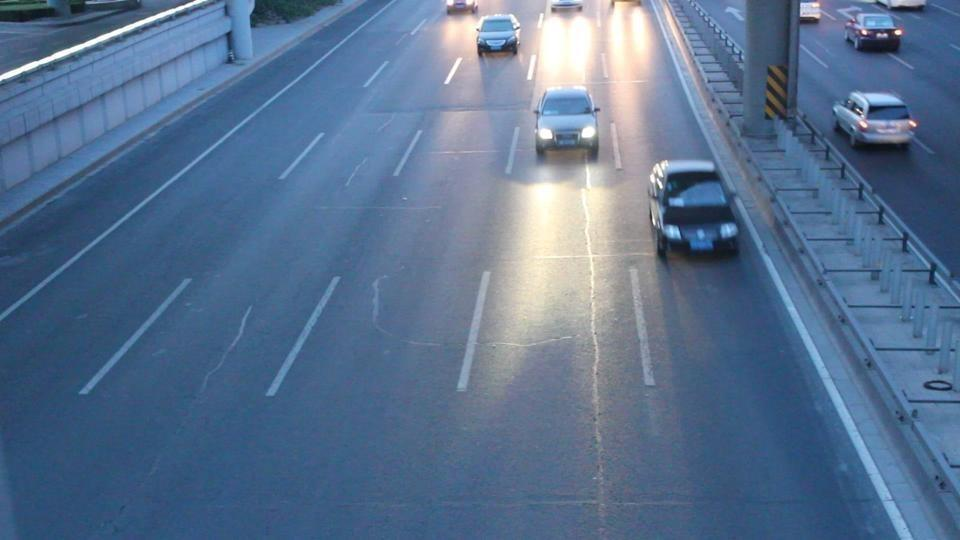car: (646, 159, 742, 260), (831, 90, 918, 149), (533, 86, 601, 158), (843, 10, 905, 52), (475, 14, 523, 55), (446, 0, 478, 15)
